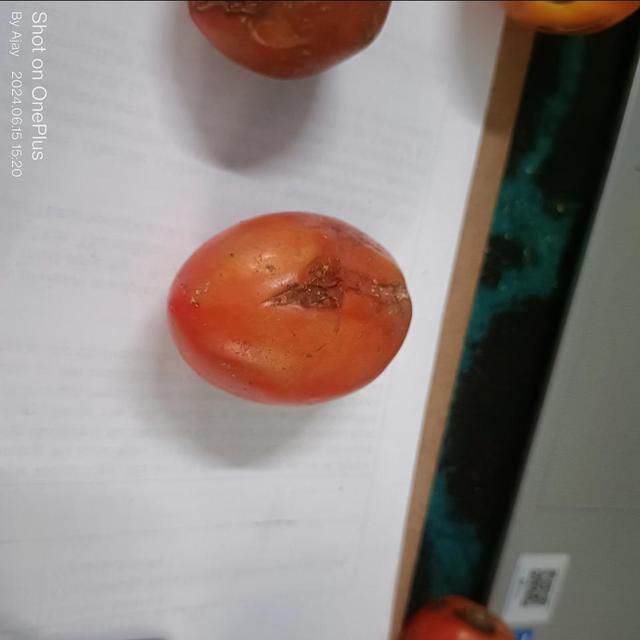Cracking Fruit: (108, 85, 282, 292)
